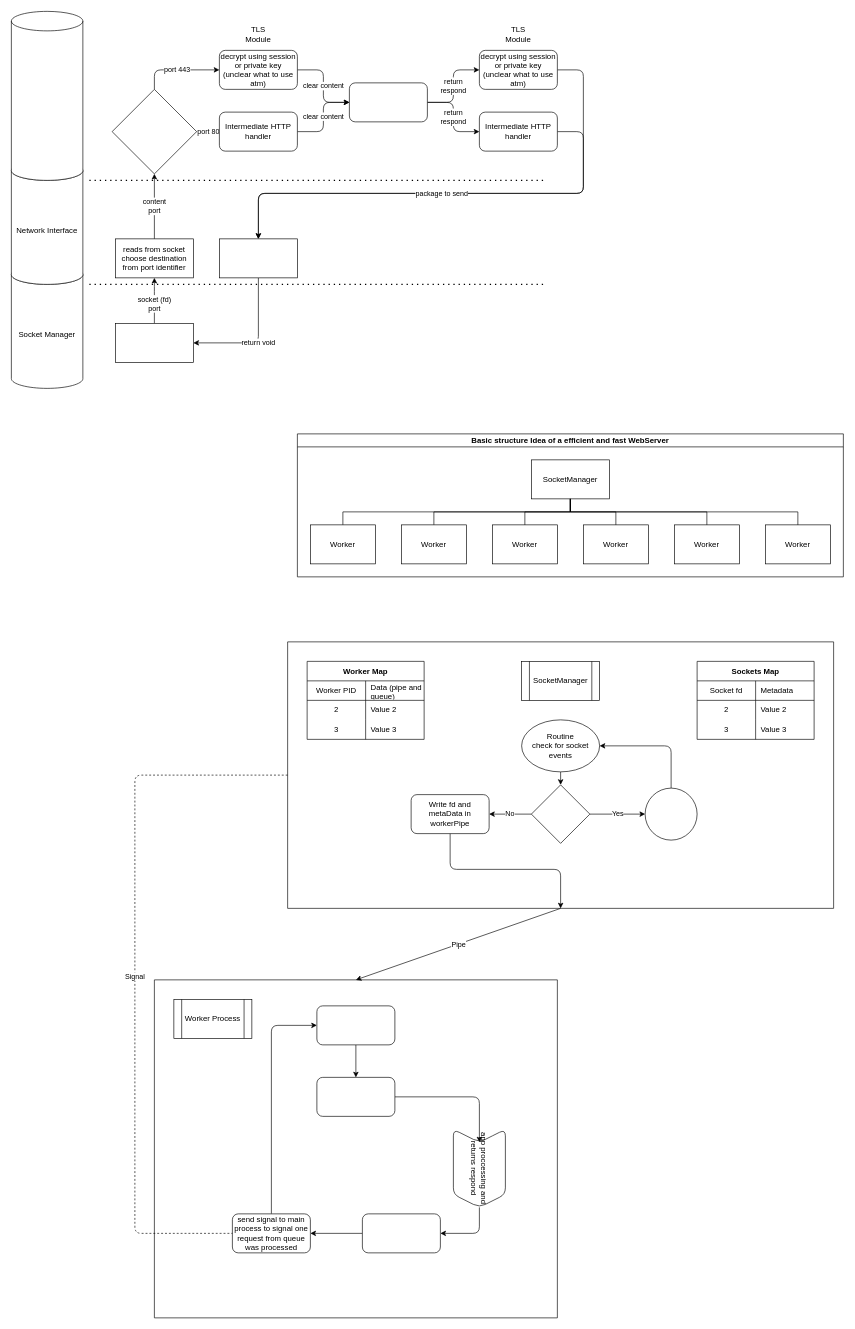
This 855x1329 diagram has some shape labels left out. Each missing label, with the centre of its shape:
"Accept connections in queue" belongs at pixel 670 813.
"Checks for sockets ready for read" belongs at pixel 154 342.
"decied from port if decryption is needed" belongs at pixel 154 131.
"HTTP/HTTPS" belongs at pixel 47 95.
"process HTTP" belongs at pixel 388 102.
"process the fd with metadata send read stuff to application from app map" belongs at pixel 355 1096.
"send respond" belongs at pixel 258 258.
"send responds" belongs at pixel 401 1233.
"Server Socket" belongs at pixel 560 813.
"Wait for Pipe Input" belongs at pixel 355 1025.
